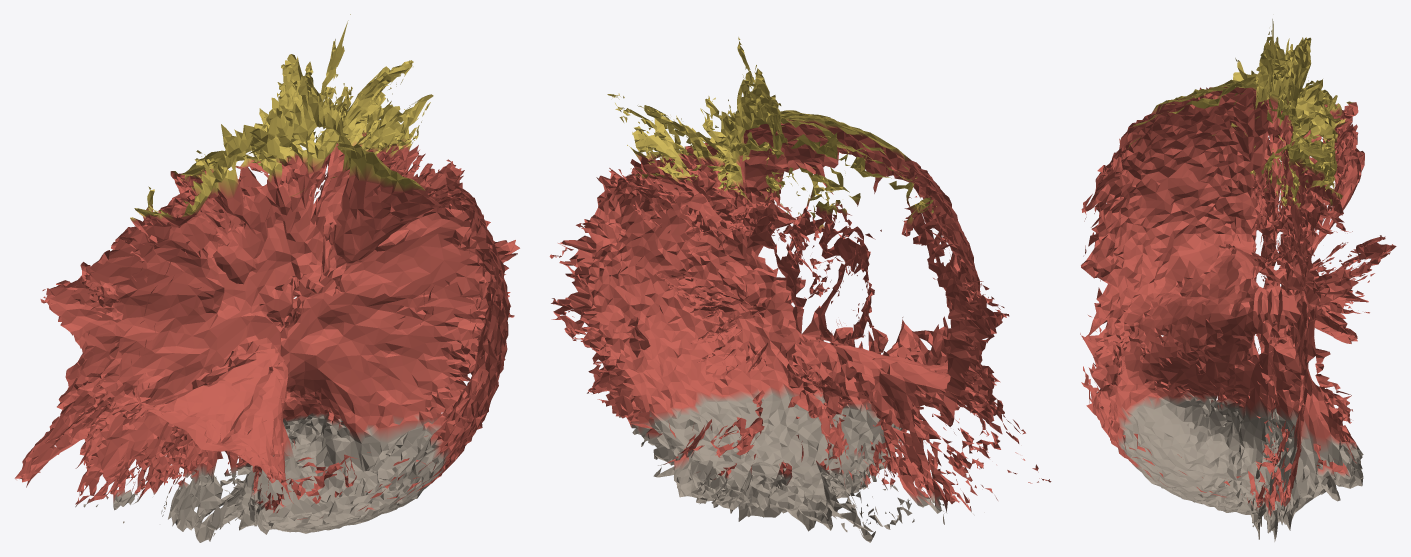
The model's file is shanmen.glb.
3 renders of one model, left to right at view 1: azimuth 30°, elevation 25°; view 2: azimuth 150°, elevation 25°; view 3: azimuth 270°, elevation 25°, orthographic. The views are drawn at different scales.
Parts seen in each view (by area): view 1: world; view 2: world; view 3: world.
Part boxes in pixels (x1,y1,x2,y2): world: [14, 14, 519, 542]; world: [549, 37, 1051, 542]; world: [1080, 19, 1396, 541].
Bounding box in the file's own units: 10 × 9.61 × 5.22.
